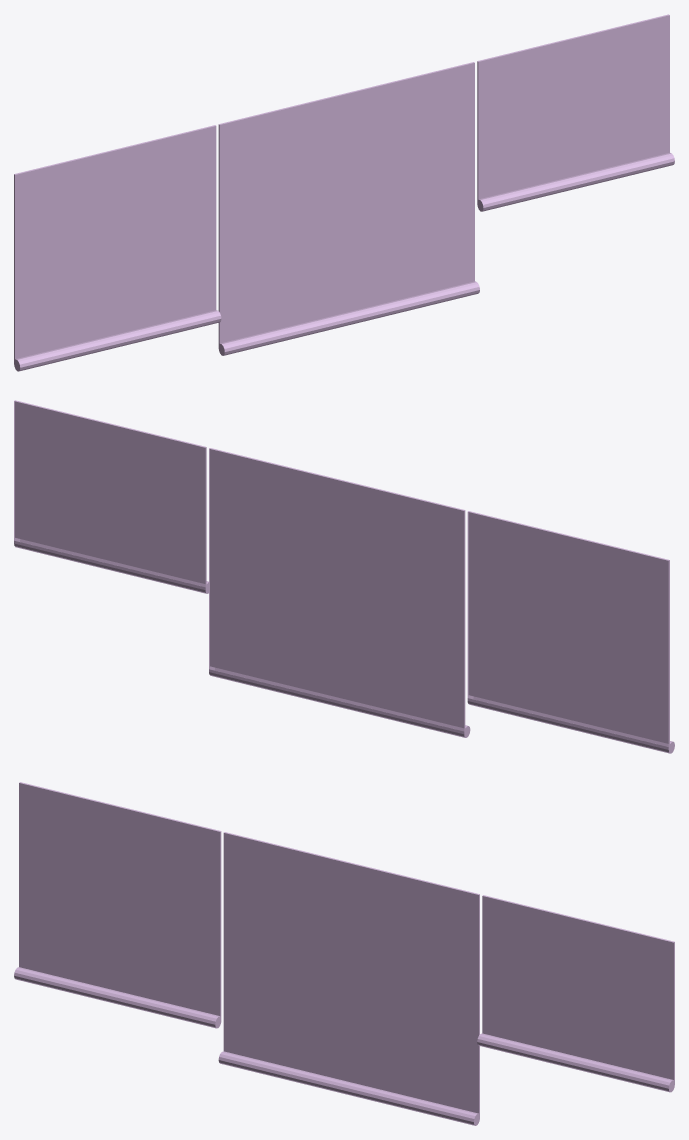
Rendered from blinds.fbx.
3 views of the same model, one above another, from view 1: azimuth 30°, elevation 25°; view 2: azimuth 150°, elevation 25°; view 3: azimuth 330°, elevation 25° (orthographic).
Parts seen in each view (by area): view 1: Цилиндр.022; view 2: Цилиндр.022; view 3: Цилиндр.022.
Part boxes in pixels (x1,y1,x2,y2): Цилиндр.022: (14,14,674,371); Цилиндр.022: (14,400,674,753); Цилиндр.022: (14,782,674,1125).
Bounding box in the file's own units: 311 × 104 × 5.12.
